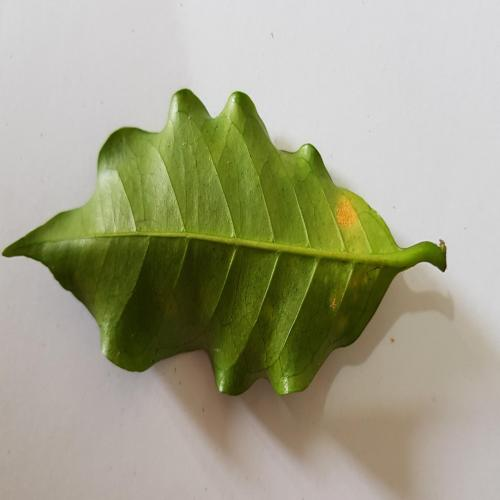phoma: (336, 198, 357, 229)
